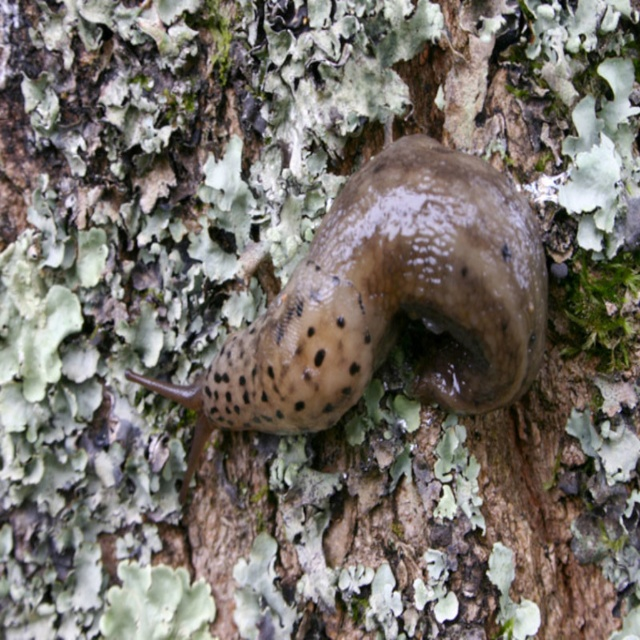Snail: (124, 134, 547, 504)
